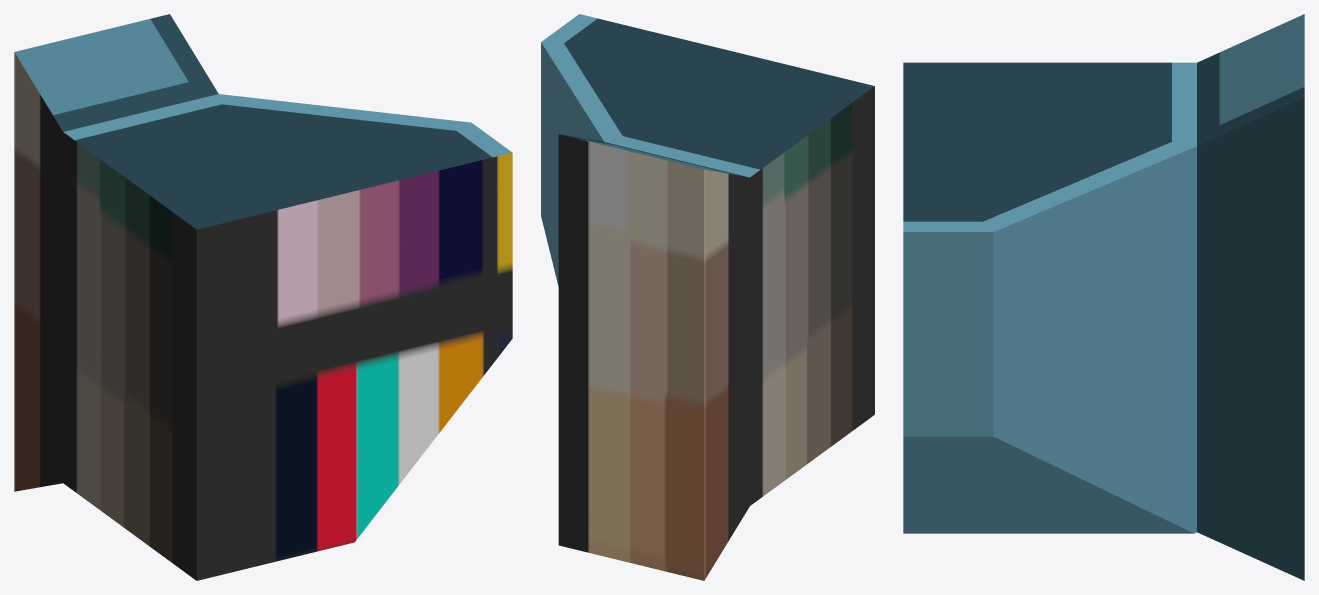
The model's file is tile_7_1_1.gltf.
The picture shows the model from 3 angles, left to right: view 1: azimuth 30°, elevation 25°; view 2: azimuth 150°, elevation 25°; view 3: azimuth 270°, elevation 25°; orthographic projection. The views are drawn at different scales.
Parts seen in each view (by area): view 1: arena.floor.corners.057, arena.sides.high.042; view 2: arena.sides.high.042, arena.floor.corners.057; view 3: arena.floor.corners.057, arena.sides.high.042.
Part boxes in pixels (box(x1,y1,x2,y2)): arena.floor.corners.057: box(63, 94, 512, 580); arena.sides.high.042: box(14, 14, 218, 491); arena.sides.high.042: box(558, 134, 749, 580); arena.floor.corners.057: box(541, 14, 874, 505); arena.floor.corners.057: box(903, 62, 1196, 533); arena.sides.high.042: box(1197, 14, 1304, 580).
Bounding box in the file's own units: 8 × 10.64 × 8.
Materials: 1 (1 with a texture image).
